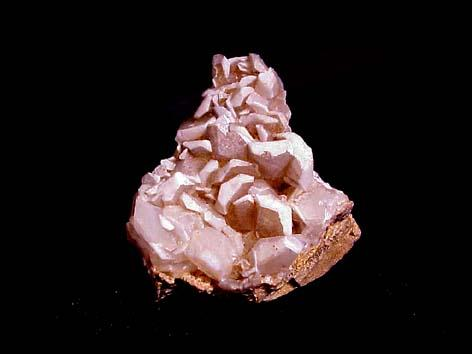calcite: (129, 54, 352, 290)
